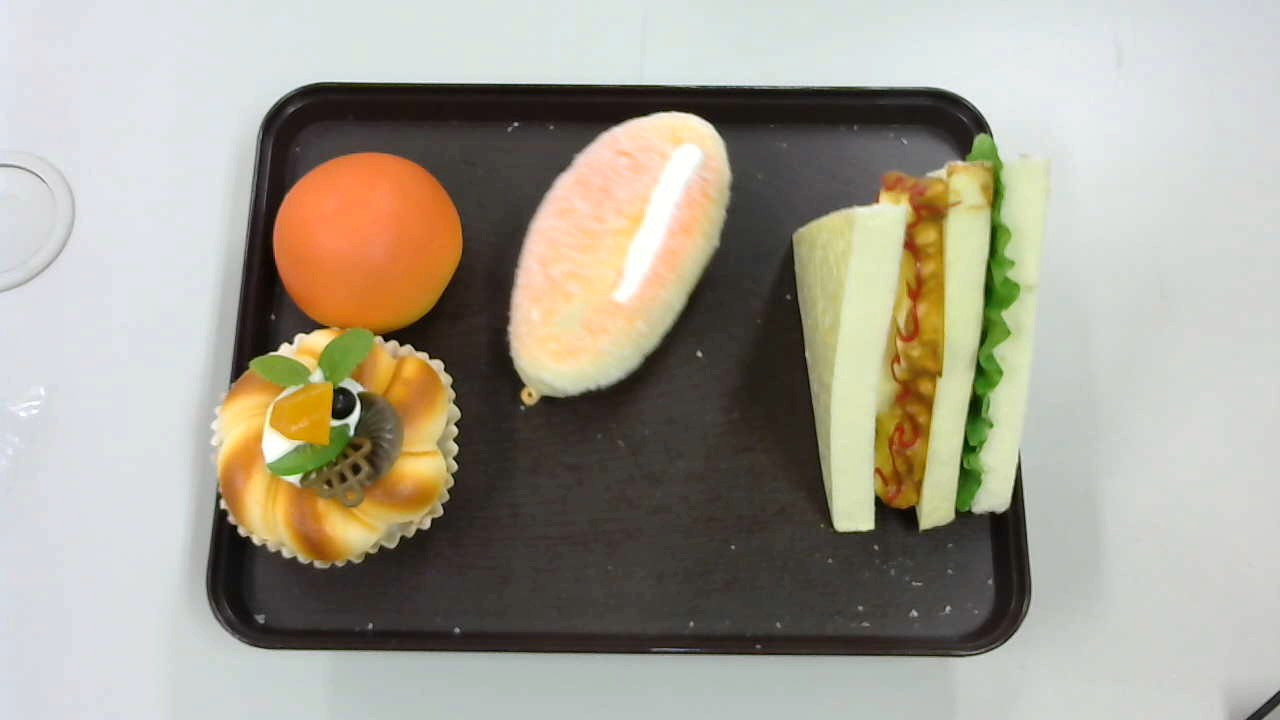bun: (273, 148, 464, 336)
coconut: (506, 111, 734, 406)
fruit tart: (208, 327, 462, 572)
sandwich: (792, 135, 1049, 533)
